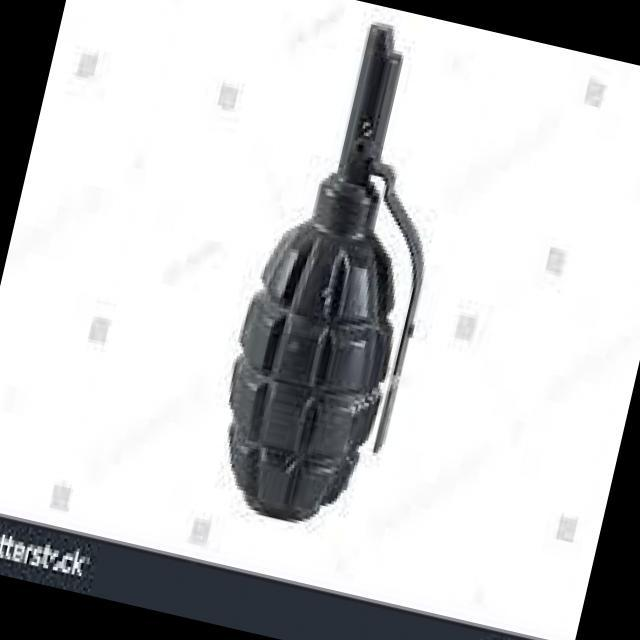grenade: (191, 0, 480, 547)
